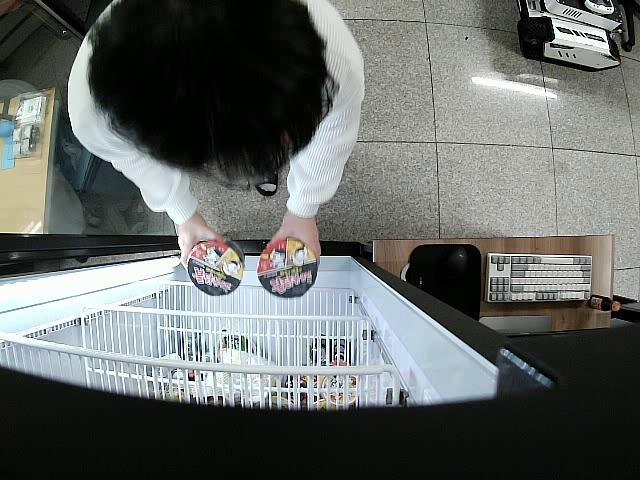07_buldak_L: (188, 238, 245, 300), (258, 240, 316, 298)
